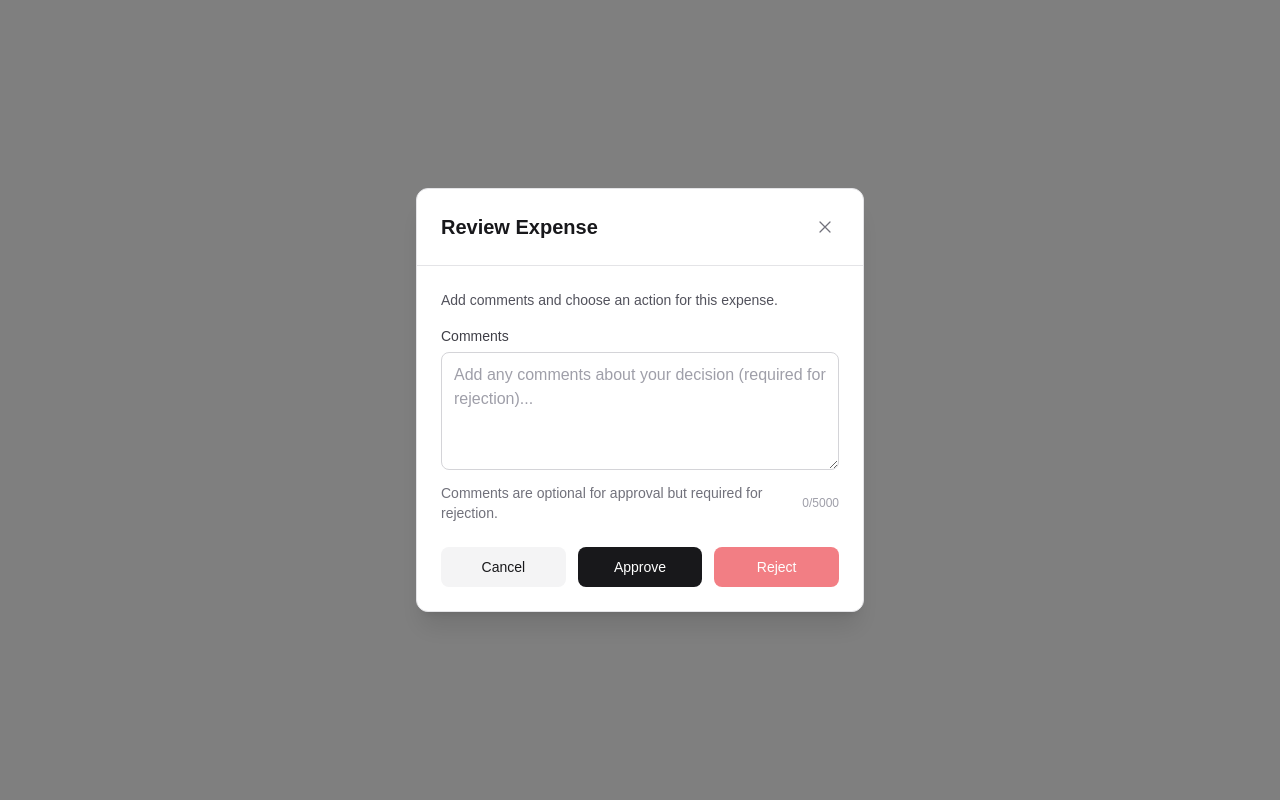
ApprovalModal › Reject Functionality › should handle rejection API error
In the text box labelled "Comments": [640, 411] box [441,352,839,470], type "Missing docs"
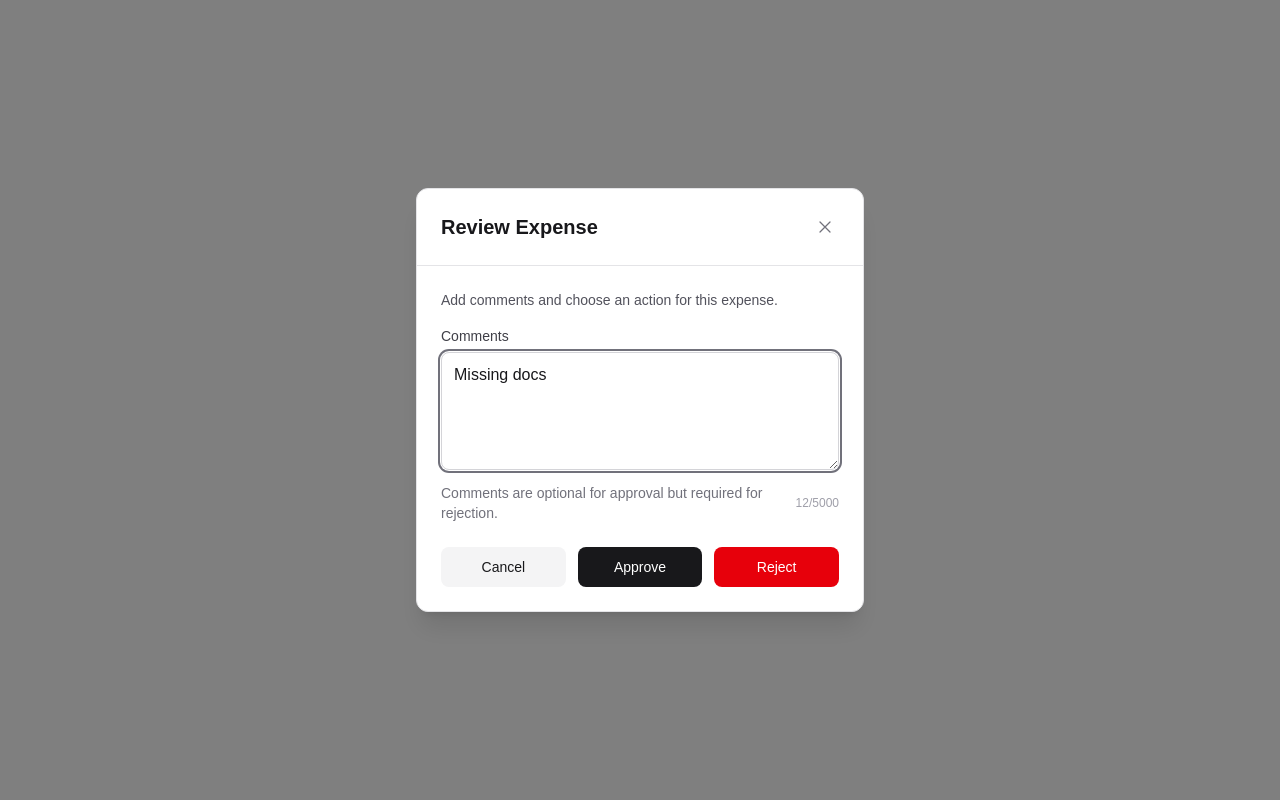
Click the button "Reject": [777, 567] box [714,547,839,587]
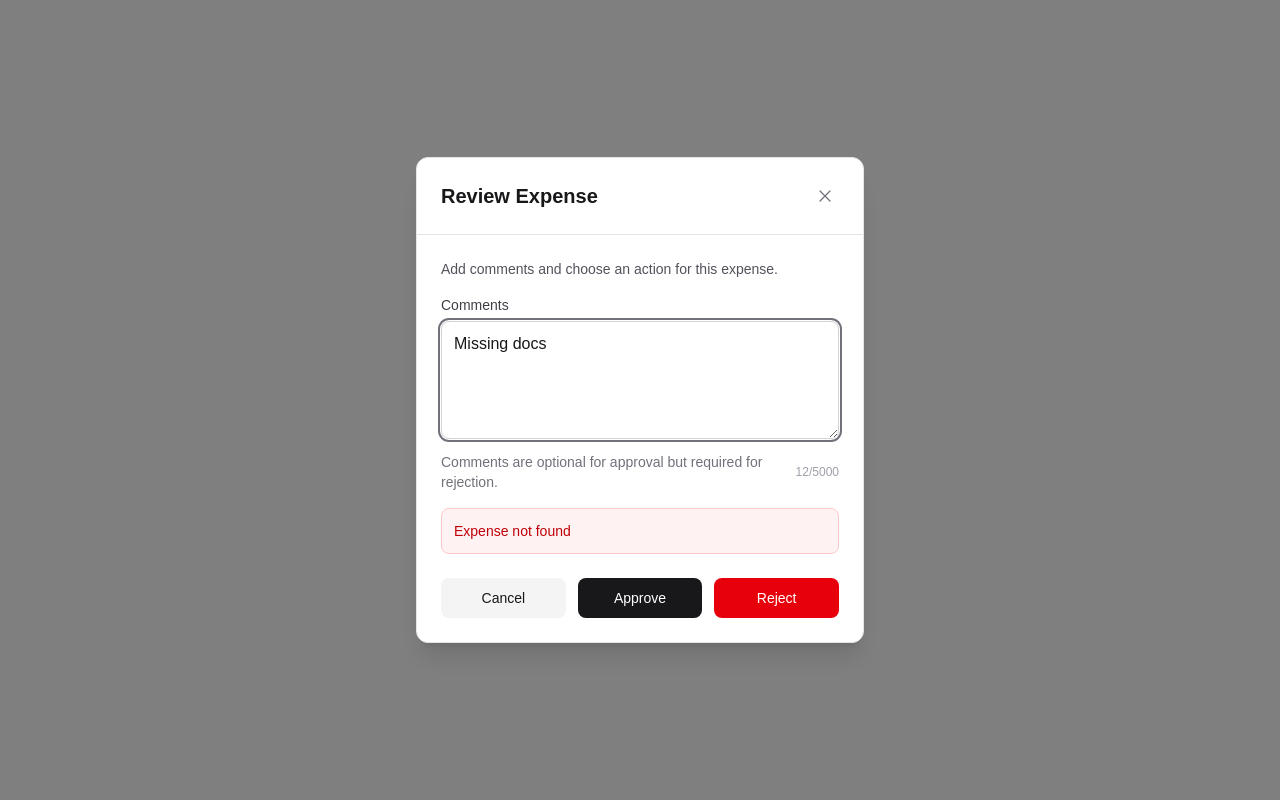
Check: the text "Expense not found" is shown, box [454,523,571,539]
